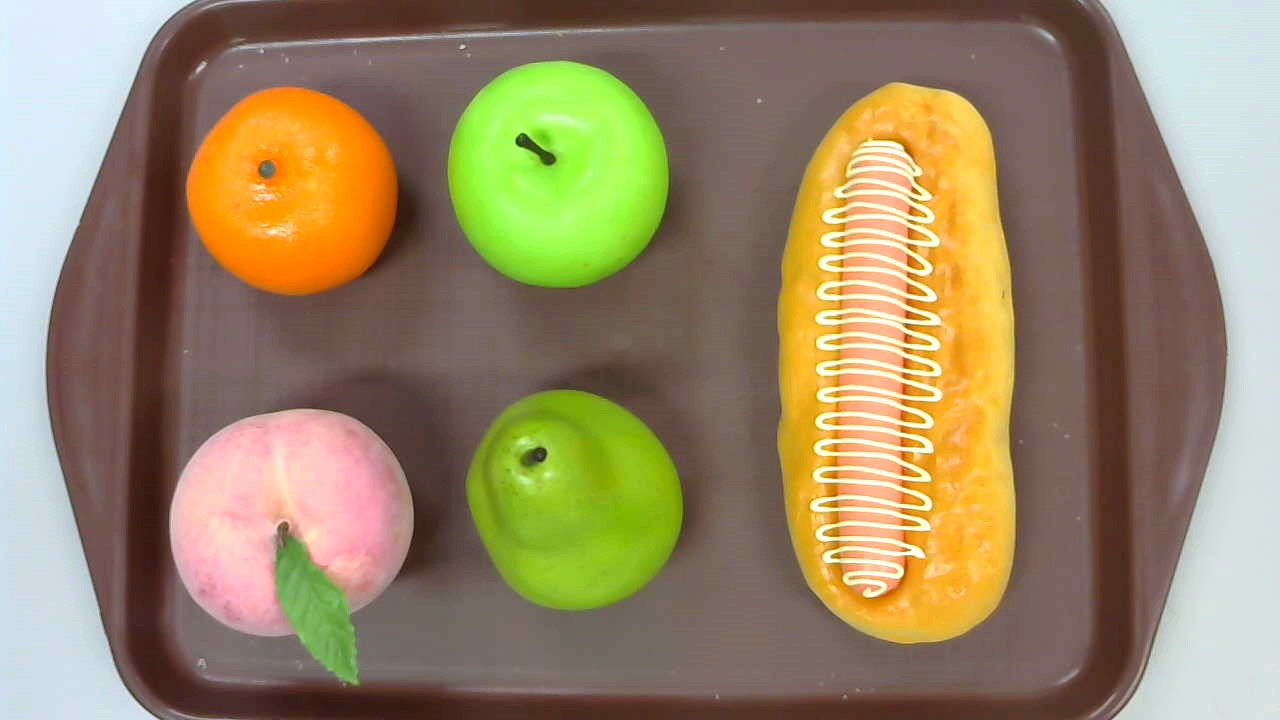green apple: (447, 60, 669, 290)
green pear: (466, 390, 685, 611)
hot dog: (776, 82, 1016, 643)
orange: (185, 87, 397, 297)
peaches: (168, 408, 414, 687)
